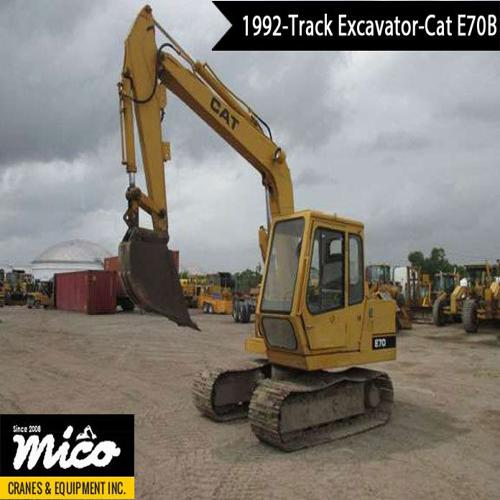con_eq: (113, 6, 402, 443), (432, 259, 500, 335), (201, 271, 246, 322)
